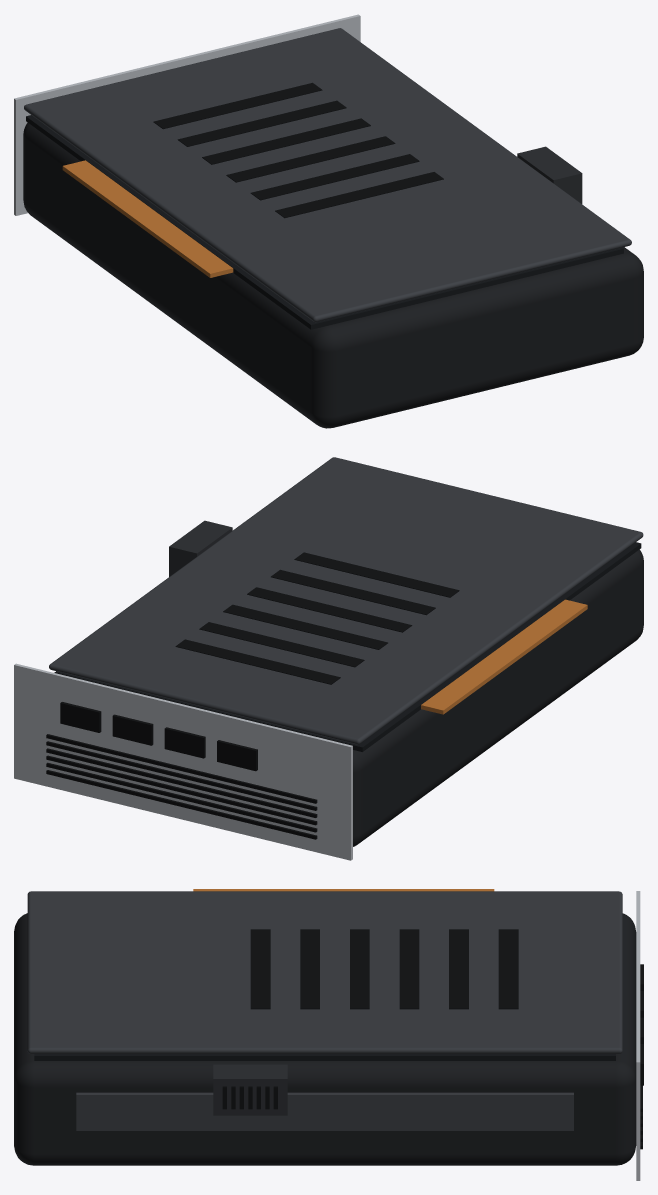
File: gpu-single-fan-v1.lod1.glb
3 renders of one model, top to bottom at view 1: azimuth 30°, elevation 25°; view 2: azimuth 150°, elevation 25°; view 3: azimuth 270°, elevation 25°, orthographic. The views are drawn at different scales.
Parts seen in each view (by area): view 1: backplate__mesh, shroud__mesh, bracket__mesh, pcb__mesh, pcie_fingers__mesh, power_connector__mesh; view 2: backplate__mesh, bracket__mesh, shroud__mesh, pcie_fingers__mesh, pcb__mesh, power_connector__mesh; view 3: backplate__mesh, shroud__mesh, pcb__mesh, power_connector__mesh, bracket__mesh, pcie_fingers__mesh.
Boxes of the visible parts, box(x1,y1,x2,y2) form: backplate__mesh: box(24, 28, 631, 322); shroud__mesh: box(23, 122, 643, 428); bracket__mesh: box(14, 14, 360, 215); pcb__mesh: box(26, 115, 623, 329); pcie_fingers__mesh: box(62, 160, 233, 277); power_connector__mesh: box(517, 146, 582, 203); backplate__mesh: box(49, 457, 643, 744); bracket__mesh: box(14, 663, 352, 860); shroud__mesh: box(54, 549, 643, 846); pcie_fingers__mesh: box(421, 599, 587, 714); pcb__mesh: box(56, 542, 641, 751); power_connector__mesh: box(169, 520, 232, 576); backplate__mesh: box(27, 891, 622, 1053); shroud__mesh: box(14, 913, 636, 1165); pcb__mesh: box(34, 1054, 615, 1060); power_connector__mesh: box(213, 1064, 287, 1115); bracket__mesh: box(636, 891, 643, 1180); pcie_fingers__mesh: box(193, 889, 494, 891).
Size of the model in its own units: 0.1338 by 0.0393 by 0.1863.
